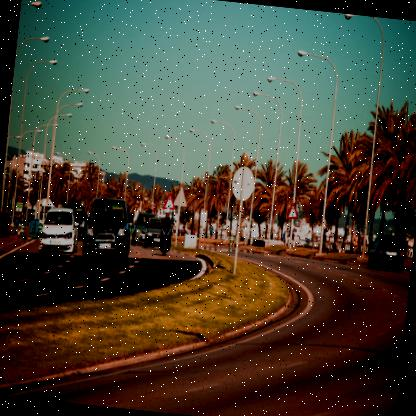Car: (76, 196, 132, 268), (367, 221, 408, 272), (39, 206, 81, 254), (58, 204, 89, 242), (131, 208, 156, 248), (144, 216, 162, 246), (131, 217, 150, 244)
